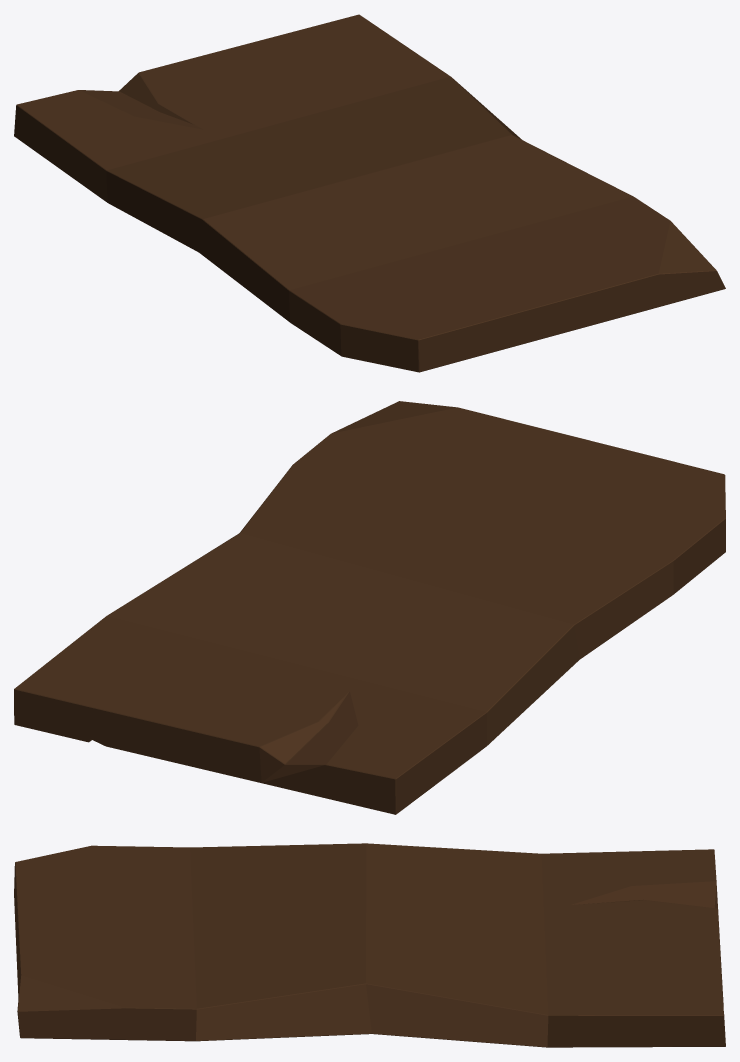
File: Minecart.fbx
3 views of the same model, one above another, from view 1: azimuth 30°, elevation 25°; view 2: azimuth 150°, elevation 25°; view 3: azimuth 270°, elevation 25° (orthographic). The views are drawn at different scales.
Visible parts, largest first — view 1: Plank .031; view 2: Plank .031; view 3: Plank .031.
Boxes of the visible parts, x1,y1,x2,y2 form: Plank .031: [14, 14, 725, 372]; Plank .031: [14, 401, 725, 814]; Plank .031: [14, 843, 725, 1047].
Bounding box in the file's own units: 35.97 × 5.32 × 62.09.
